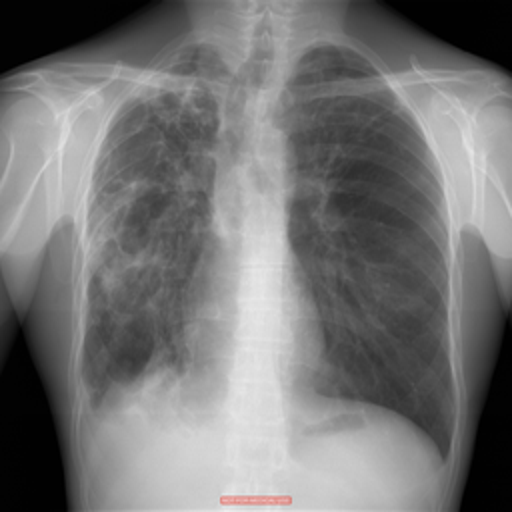TB: (88, 187, 162, 309), (138, 76, 214, 168)
